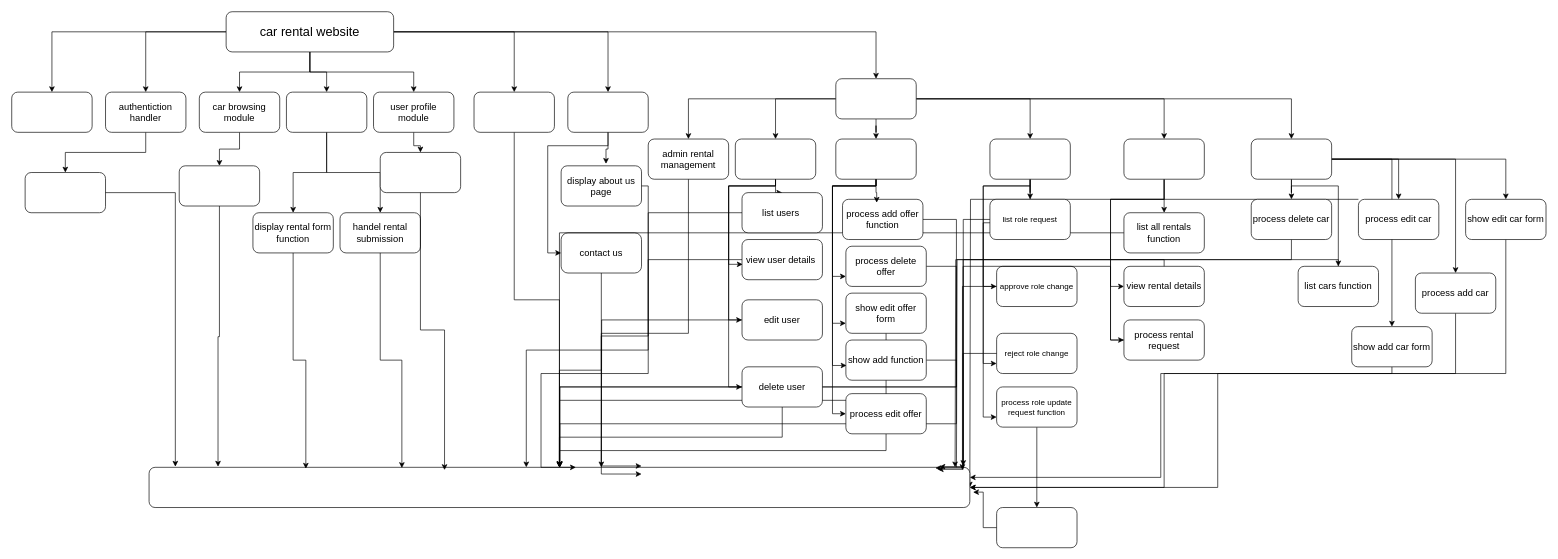
This 1558x559 diagram has some shape labels left out. The box of each missing label's shape, as (x1, y1, x2, y2) in pixels:
admin car mmanagement: (1251, 138, 1332, 179)
admin offer managment: (835, 138, 916, 179)
admin rental: (1123, 138, 1204, 179)
admin system access: (835, 78, 916, 119)
admin user management: (735, 138, 816, 179)
database connector: (148, 467, 970, 508)
display car list function: (179, 165, 260, 206)
display profile function: (380, 152, 461, 193)
offers display: (473, 91, 554, 132)
process login: (24, 172, 106, 213)
process role change request: (989, 138, 1070, 179)
rental process module: (286, 91, 367, 132)
request handler: (11, 91, 92, 132)
static page display: (567, 91, 648, 132)
user management module: (996, 507, 1077, 548)
